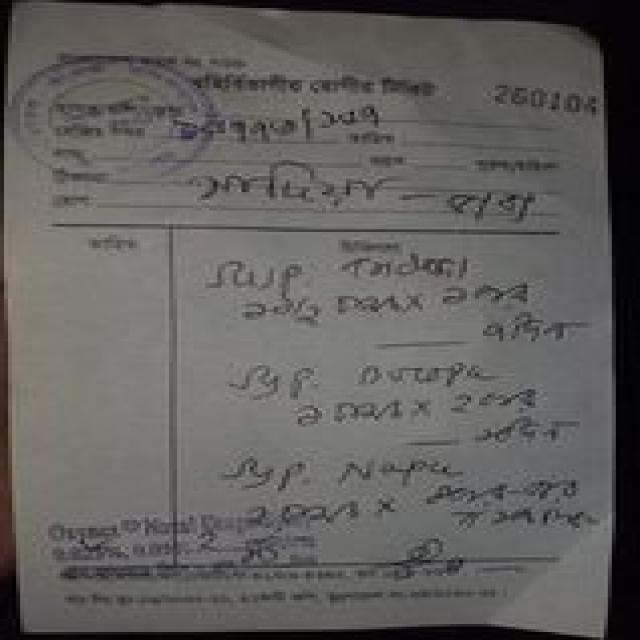Docopa: (325, 353, 506, 402)
Napa: (325, 448, 471, 494)
Tridosil: (318, 247, 490, 294)
